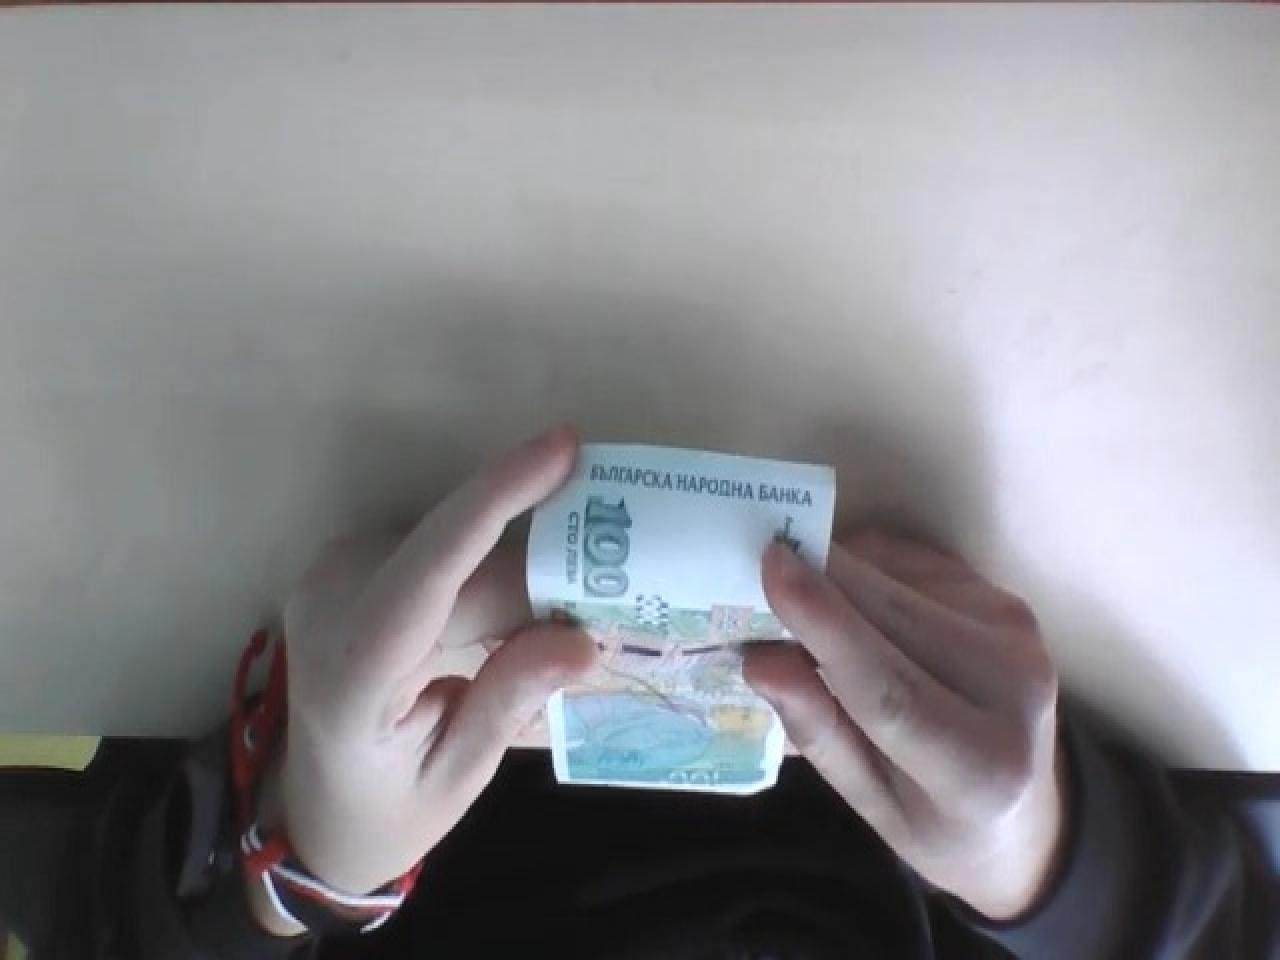100leva: (524, 440, 840, 800)
